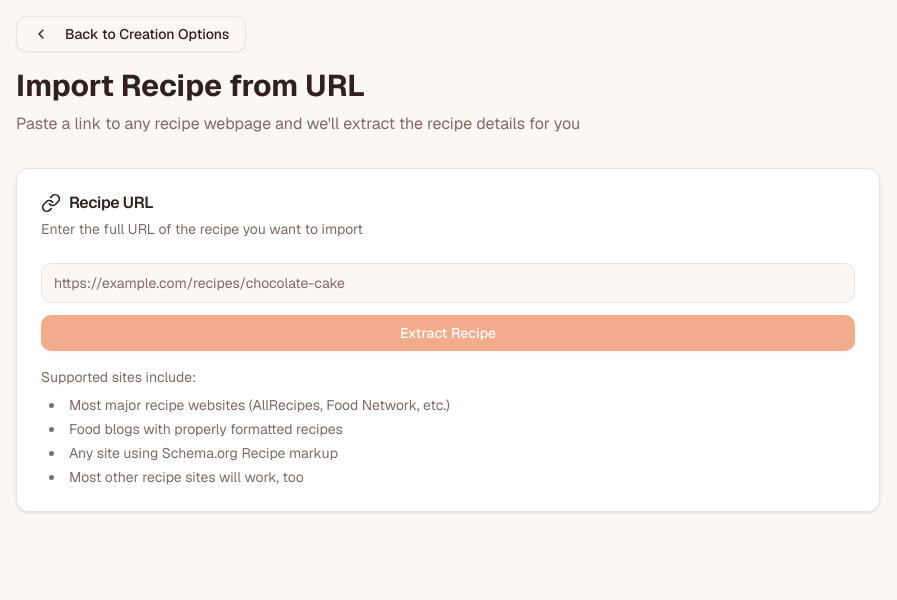
Test case: UrlRecipePage › handles extraction errors
This screenshot has width=897, height=600.
Type "https://example.com/not-a-recipe" into the field with placeholder "https://example.com/recipes/chocolate-cake" at x=448, y=283, box [41,263,855,303]
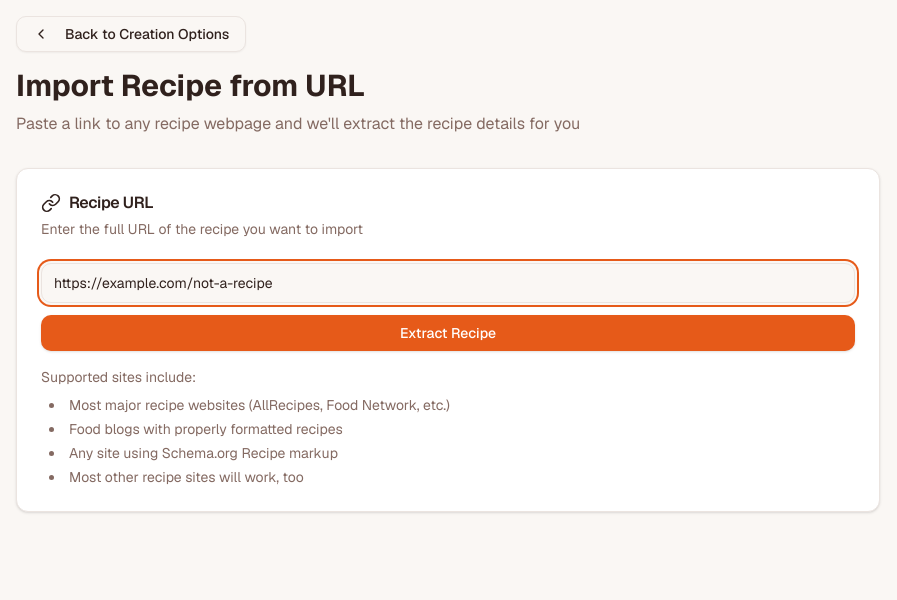
Click the button "Extract Recipe" at x=448, y=333, box [41,315,855,351]
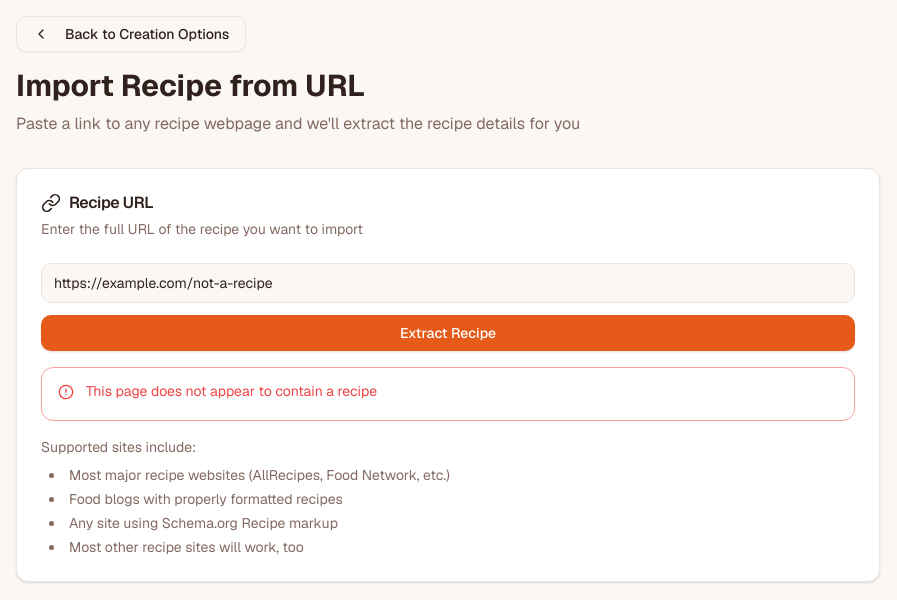
Check: the text "This page does not appear to contain a recipe" is shown, box [86,382,377,400]
